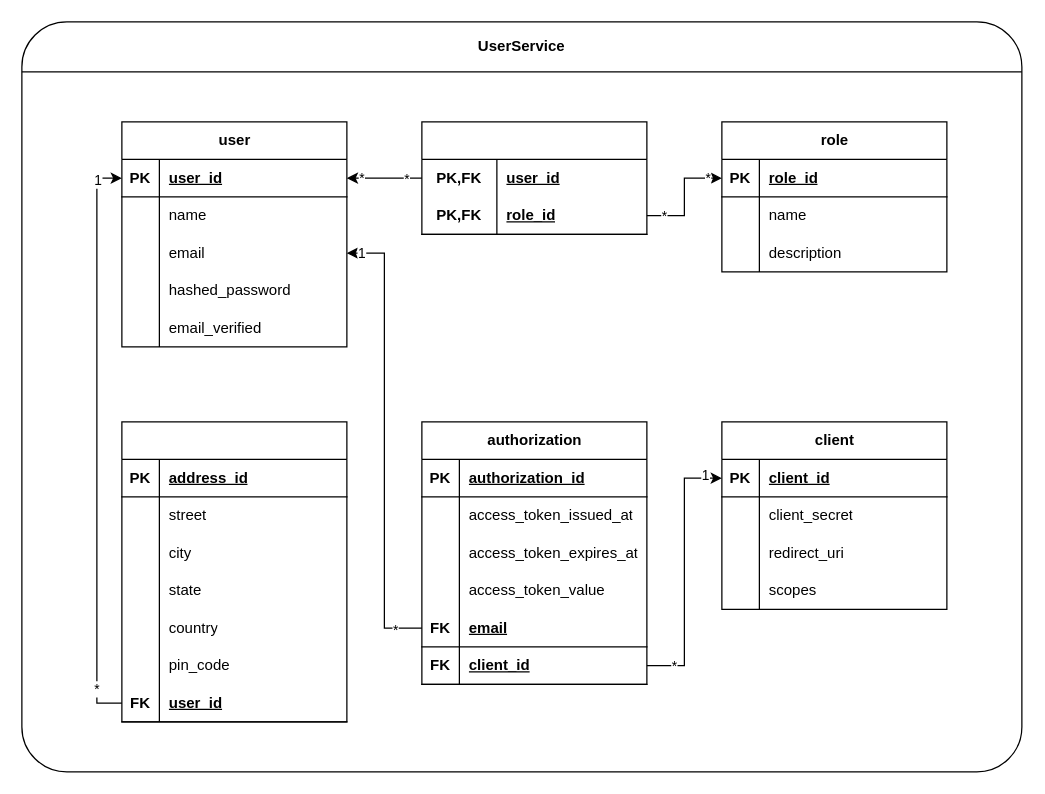
Image size: 1045x794. Some labels were removed from this diagram. Here are the shapes that lost their labels. From the top down, the box of each, then its label:
(421, 121, 647, 234): user_role
(121, 421, 347, 722): shipping_address
